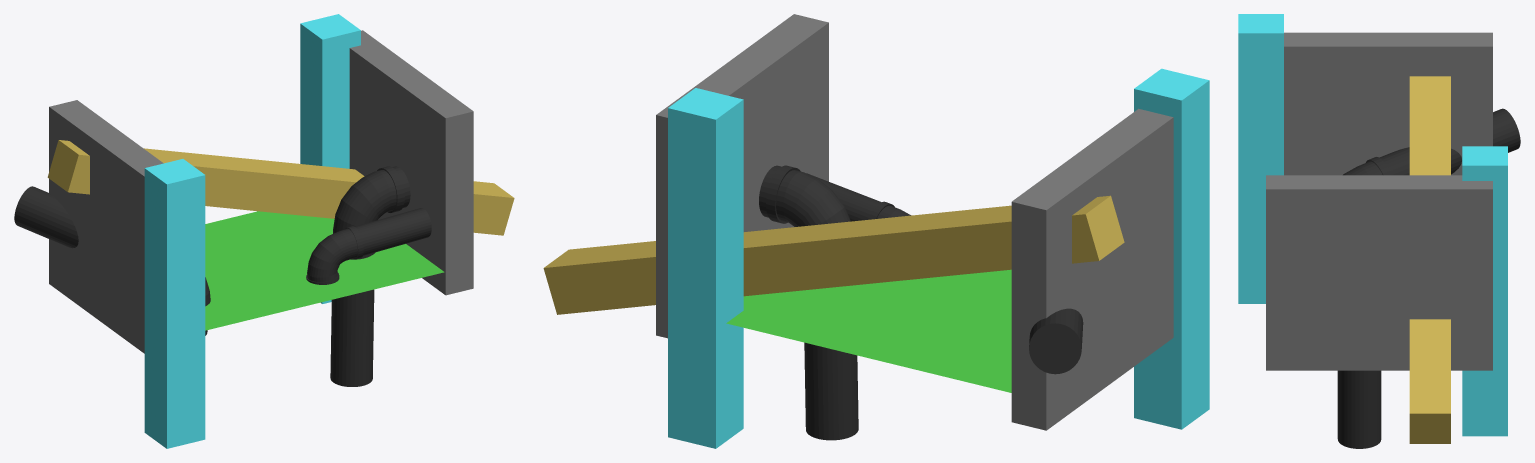
Rendered from TrenchSegBeamA.fbx.
3 renders of one model, left to right at view 1: azimuth 30°, elevation 25°; view 2: azimuth 150°, elevation 25°; view 3: azimuth 270°, elevation 25°, orthographic. The views are drawn at different scales.
Parts seen in each view (by area): view 1: Cube.001, Cube, Cube.002, Plane, Cylinder.001, Cube.003; view 2: Cube.001, Cube.002, Cube.003, Plane, Cube, Cylinder.001; view 3: Cube.001, Cube.002, Cube, Cube.003, Cylinder.001.
Part boxes in pixels (bbox=[...]): Cube.001: bbox=[47, 30, 514, 295]; Cube: bbox=[144, 159, 205, 448]; Cube.002: bbox=[49, 100, 163, 353]; Plane: bbox=[205, 211, 444, 330]; Cylinder.001: bbox=[14, 166, 431, 386]; Cube.003: bbox=[300, 14, 360, 303]; Cube.001: bbox=[543, 14, 1124, 338]; Cube.002: bbox=[1011, 108, 1173, 430]; Cube.003: bbox=[668, 88, 743, 448]; Plane: bbox=[726, 269, 1011, 392]; Cube: bbox=[1134, 68, 1209, 429]; Cylinder.001: bbox=[759, 165, 1083, 440]; Cube.001: bbox=[1266, 76, 1492, 443]; Cube.002: bbox=[1284, 32, 1492, 175]; Cube: bbox=[1238, 14, 1283, 303]; Cube.003: bbox=[1462, 146, 1507, 436]; Cylinder.001: bbox=[1337, 108, 1520, 448].
Bounding box in the file's own units: 1379 × 859 × 722.
